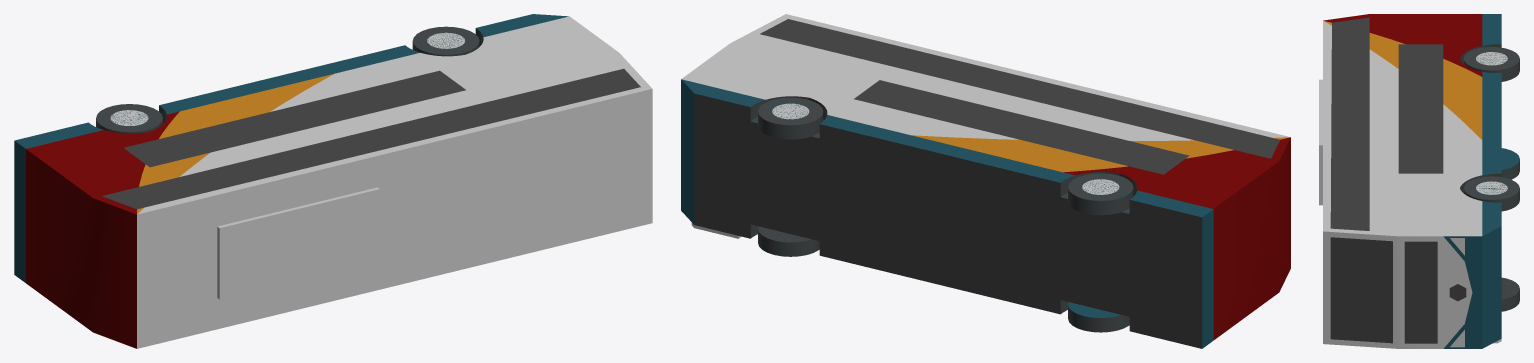
File: bus_3.dae
The picture shows the model from 3 angles, left to right: view 1: azimuth 30°, elevation 25°; view 2: azimuth 150°, elevation 25°; view 3: azimuth 270°, elevation 25°; orthographic projection. The views are drawn at different scales.
Visible parts, largest first — view 1: coords_ME_ID53_MA___auto_2, coords_ME_ID45_MA___auto_5, coords_ME_ID59_MA___auto_2, coords_ME_ID65_MA___auto_, coords_ME_ID163_MA___auto_, coords_ME_ID139_MA___auto_6, coords_ME_ID121_MA___auto_275, coords_ME_ID97_MA___auto_275, coords_ME_ID39_MA___auto_, coords_ME_ID3_MA___auto_, coords_ME_ID145_MA___auto_6, coords_ME_ID91_MA___auto_275 (+2 smaller); view 2: coords_ME_ID85_MA___auto_, coords_ME_ID53_MA___auto_2, coords_ME_ID45_MA___auto_5, coords_ME_ID65_MA___auto_, coords_ME_ID163_MA___auto_, coords_ME_ID139_MA___auto_6, coords_ME_ID121_MA___auto_275, coords_ME_ID91_MA___auto_275, coords_ME_ID97_MA___auto_275, coords_ME_ID39_MA___auto_, coords_ME_ID3_MA___auto_, coords_ME_ID27_MA___auto_ (+6 smaller); view 3: coords_ME_ID53_MA___auto_2, coords_ME_ID65_MA___auto_, coords_ME_ID175_MA___auto_, coords_ME_ID163_MA___auto_, coords_ME_ID91_MA___auto_275, coords_ME_ID45_MA___auto_5, coords_ME_ID187_MA___auto_, coords_ME_ID139_MA___auto_6, coords_ME_ID121_MA___auto_275, coords_ME_ID39_MA___auto_, coords_ME_ID3_MA___auto_, coords_ME_ID145_MA___auto_6 (+10 smaller).
Part boxes in pixels (x1,y1,x2,y2): coords_ME_ID53_MA___auto_2: (137,16,652,348); coords_ME_ID45_MA___auto_5: (26,111,179,348); coords_ME_ID59_MA___auto_2: (217,187,379,299); coords_ME_ID65_MA___auto_: (102,68,640,209); coords_ME_ID163_MA___auto_: (123,70,465,167); coords_ME_ID139_MA___auto_6: (159,73,334,138); coords_ME_ID121_MA___auto_275: (159,45,419,114); coords_ME_ID97_MA___auto_275: (14,122,102,282); coords_ME_ID39_MA___auto_: (412,26,483,56); coords_ME_ID3_MA___auto_: (96,104,166,133); coords_ME_ID145_MA___auto_6: (139,153,209,186); coords_ME_ID91_MA___auto_275: (476,14,568,37); coords_ME_ID85_MA___auto_: (694,93,1202,348); coords_ME_ID53_MA___auto_2: (681,14,1290,140); coords_ME_ID45_MA___auto_5: (1064,137,1290,339); coords_ME_ID65_MA___auto_: (760,19,1279,158); coords_ME_ID163_MA___auto_: (854,80,1189,174); coords_ME_ID139_MA___auto_6: (912,135,1127,172); coords_ME_ID121_MA___auto_275: (820,115,1074,182); coords_ME_ID91_MA___auto_275: (681,79,765,224); coords_ME_ID97_MA___auto_275: (1130,190,1213,348); coords_ME_ID39_MA___auto_: (750,96,827,139); coords_ME_ID3_MA___auto_: (1060,172,1137,215); coords_ME_ID27_MA___auto_: (750,224,819,256); coords_ME_ID53_MA___auto_2: (1323,21,1482,348); coords_ME_ID65_MA___auto_: (1330,17,1369,230); coords_ME_ID175_MA___auto_: (1330,237,1392,343); coords_ME_ID163_MA___auto_: (1398,44,1443,173); coords_ME_ID91_MA___auto_275: (1443,201,1501,348); coords_ME_ID45_MA___auto_5: (1323,14,1482,76); coords_ME_ID187_MA___auto_: (1404,241,1437,343); coords_ME_ID139_MA___auto_6: (1443,59,1482,140); coords_ME_ID121_MA___auto_275: (1482,71,1501,175); coords_ME_ID39_MA___auto_: (1460,173,1519,211); coords_ME_ID3_MA___auto_: (1460,44,1519,81); coords_ME_ID145_MA___auto_6: (1369,33,1404,68).
Size of the model in its own units: 77.62 by 18.76 by 29.63.
